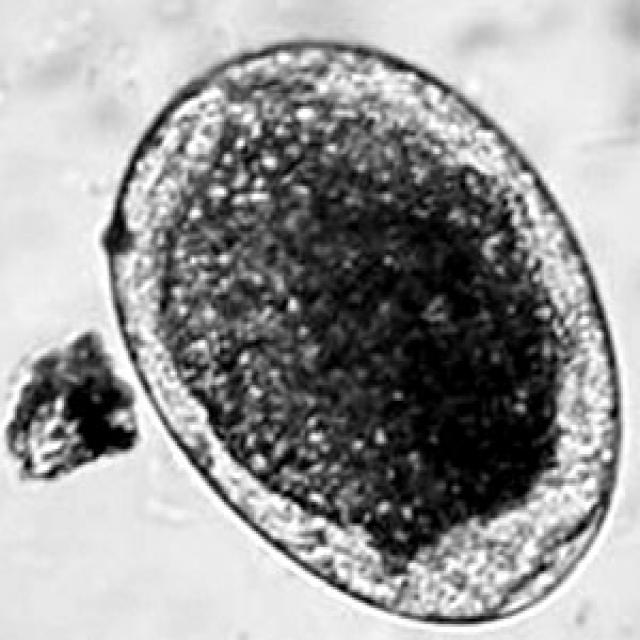Ancylostoma Spp: (97, 32, 639, 635)
